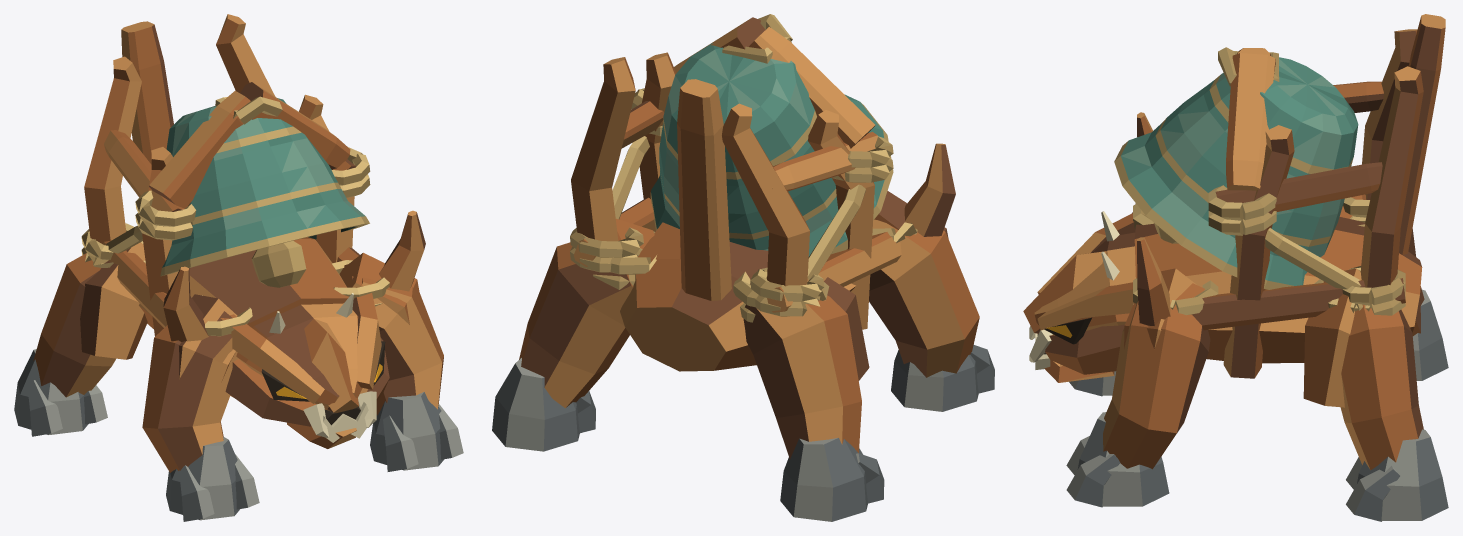
File: bellback-study-v6-frame2.glb
3 views of the same model, side by side, from view 1: azimuth 30°, elevation 25°; view 2: azimuth 150°, elevation 25°; view 3: azimuth 270°, elevation 25° (orthographic). The views are drawn at different scales.
Parts seen in each view (by area): view 1: Hollow cast bell, Left fore timber leg, Barrel timber hull, Left hind timber leg, Right fore timber leg, Broken ship rib -1 1, Left hind shoulder cap, Solid timber cranium, Tall stern plank, Arch left, Right fore stone foot, Left fore stone foot (+33 smaller); view 2: Hollow cast bell, Left hind timber leg, Barrel timber hull, Right hind timber leg, Left fore timber leg, Tall stern plank, Broken ship rib 1 1, Broken ship rib -1 1, Left hind stone foot, Right hind stone foot, Arch left, Left fore stone foot (+23 smaller); view 3: Hollow cast bell, Right fore timber leg, Right hind timber leg, Barrel timber hull, Broken ship rib 1 1, Broken ship rib 1 0, Arch right, Lower angled rail 1, Right hind stone foot, Right hind shoulder cap, Tall stern plank, Upper angled rail 1 (+21 smaller).
Boxes of the visible parts, x1,y1,x2,y2 form: Hollow cast bell: (160,98,369,276); Left fore timber leg: (142,311,237,472); Barrel timber hull: (139,237,353,328); Left hind timber leg: (33,253,115,397); Right fore timber leg: (344,264,443,415); Broken ship rib -1 1: (84,56,141,243); Left hind shoulder cap: (80,242,147,359); Solid timber cranium: (236,303,362,410); Tall stern plank: (121,21,173,164); Arch left: (149,90,250,208); Right fore stone foot: (370,392,443,470); Left fore stone foot: (166,436,239,520); Hollow cast bell: (650,43,893,256); Left hind timber leg: (743,295,861,458); Barrel timber hull: (620,222,855,371); Right hind timber leg: (519,232,633,408); Left fore timber leg: (869,219,979,377); Tall stern plank: (677,79,731,300); Broken ship rib 1 1: (571,57,635,241); Broken ship rib -1 1: (722,103,809,286); Left hind stone foot: (780,438,867,521); Right hind stone foot: (492,358,579,451); Arch left: (749,26,875,148); Left fore stone foot: (891,350,978,411); Hollow cast bell: (1114,57,1358,289); Right fore timber leg: (1103,283,1210,469); Right hind timber leg: (1340,304,1423,470); Barrel timber hull: (1134,217,1422,363); Broken ship rib 1 1: (1360,66,1423,287); Broken ship rib 1 0: (1223,125,1294,378); Arch right: (1226,53,1275,190); Lower angled rail 1: (1192,278,1405,330); Right hind stone foot: (1357,429,1448,520); Right hind shoulder cap: (1303,268,1361,407); Tall stern plank: (1399,14,1445,255); Upper angled rail 1: (1215,162,1382,211).
Bounding box in the file's own units: 3.33 × 3.48 × 3.37.
